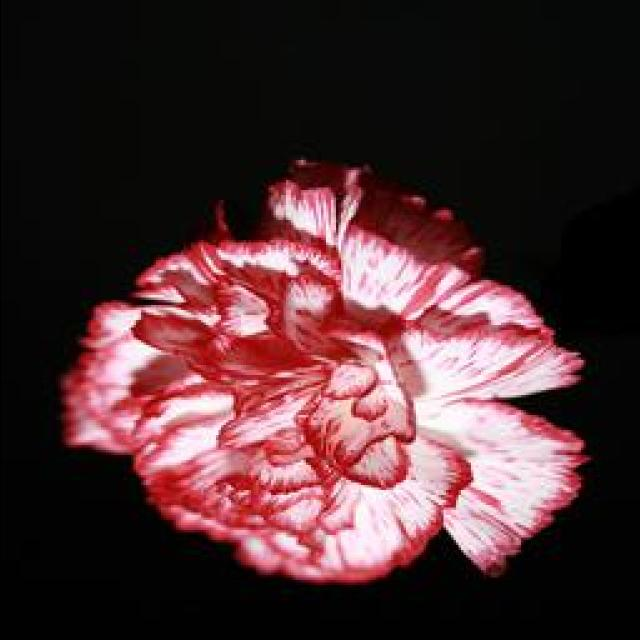carnation: (38, 145, 558, 640)
